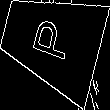P_W: (27, 16, 76, 66)
